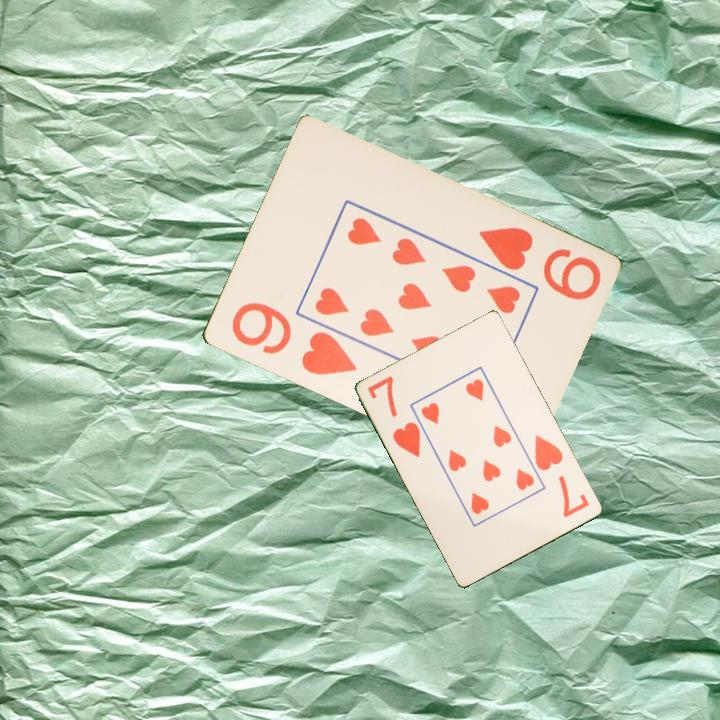7h: (531, 431, 593, 521), (364, 372, 424, 461)
9h: (227, 298, 360, 379), (474, 223, 604, 304)
